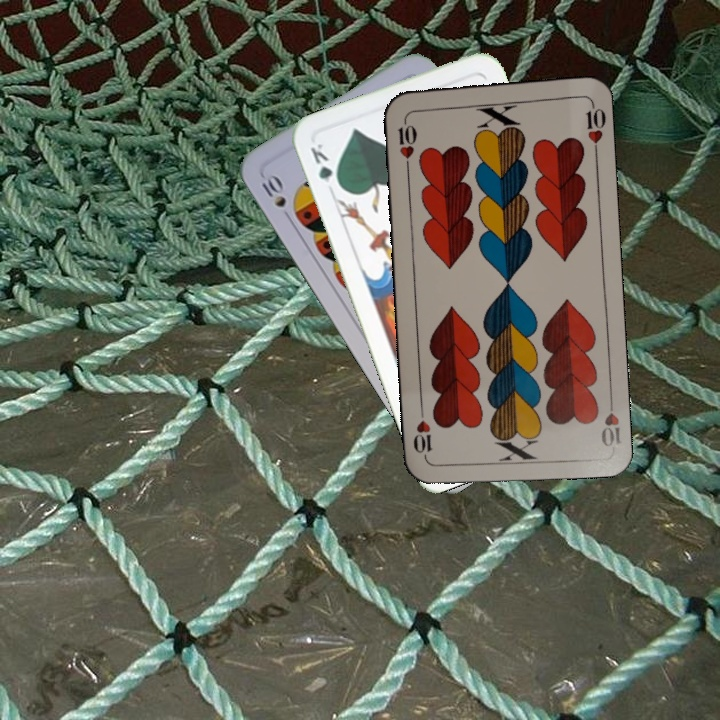GK: (306, 139, 344, 192)
H10: (597, 391, 623, 450), (394, 112, 419, 171)
S10: (257, 170, 295, 225)
